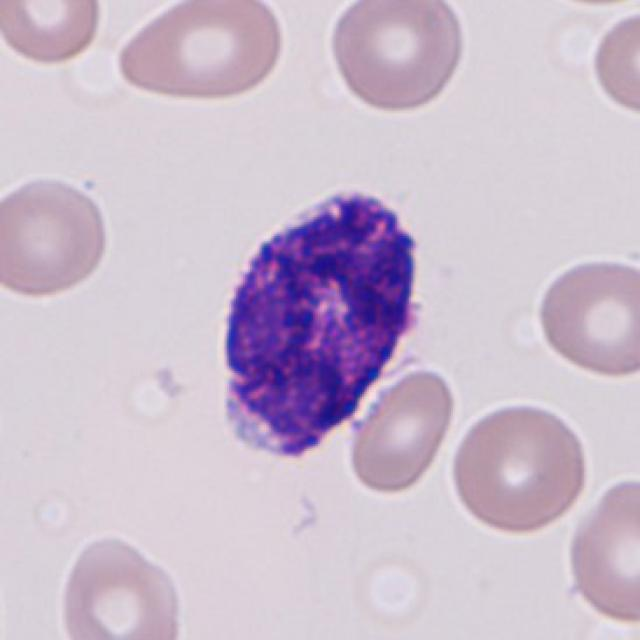Basophil: (204, 170, 446, 475)
RBC: (446, 396, 593, 538), (106, 0, 294, 106), (326, 0, 470, 116), (0, 168, 115, 303), (345, 361, 458, 498), (54, 529, 189, 640), (530, 252, 638, 384), (562, 470, 638, 626), (0, 0, 106, 69), (587, 5, 640, 121), (565, 619, 638, 640), (526, 0, 639, 10)
